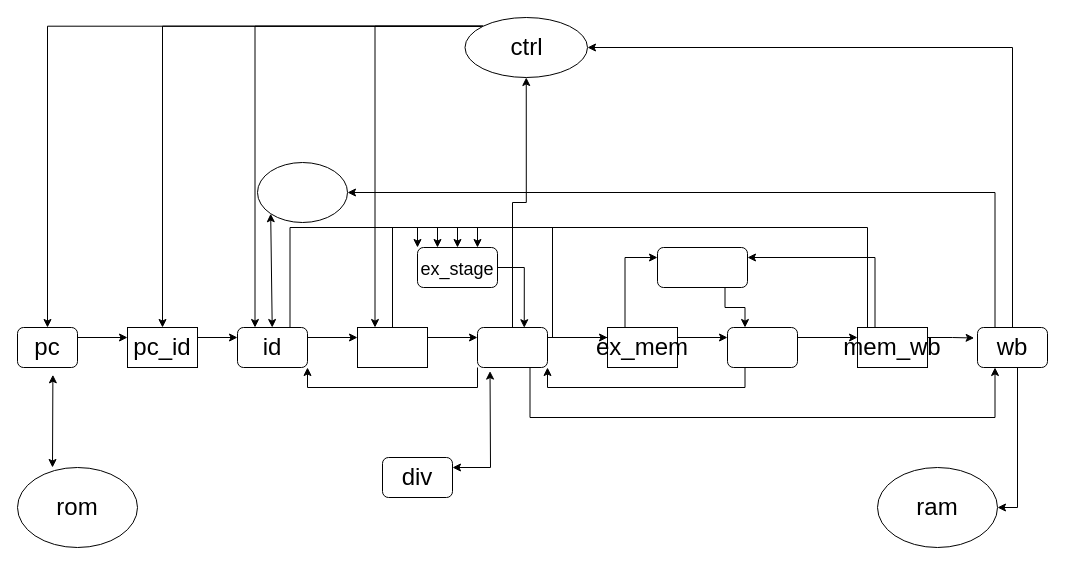
Image size: 1065x565. Some labels were removed from this diagram. Each missing label, with the box of its shape:
ex: (476, 326, 548, 368)
id_ex: (356, 326, 428, 368)
mem: (726, 326, 798, 368)
mem_stage: (656, 246, 748, 288)
regs: (256, 162, 348, 222)
